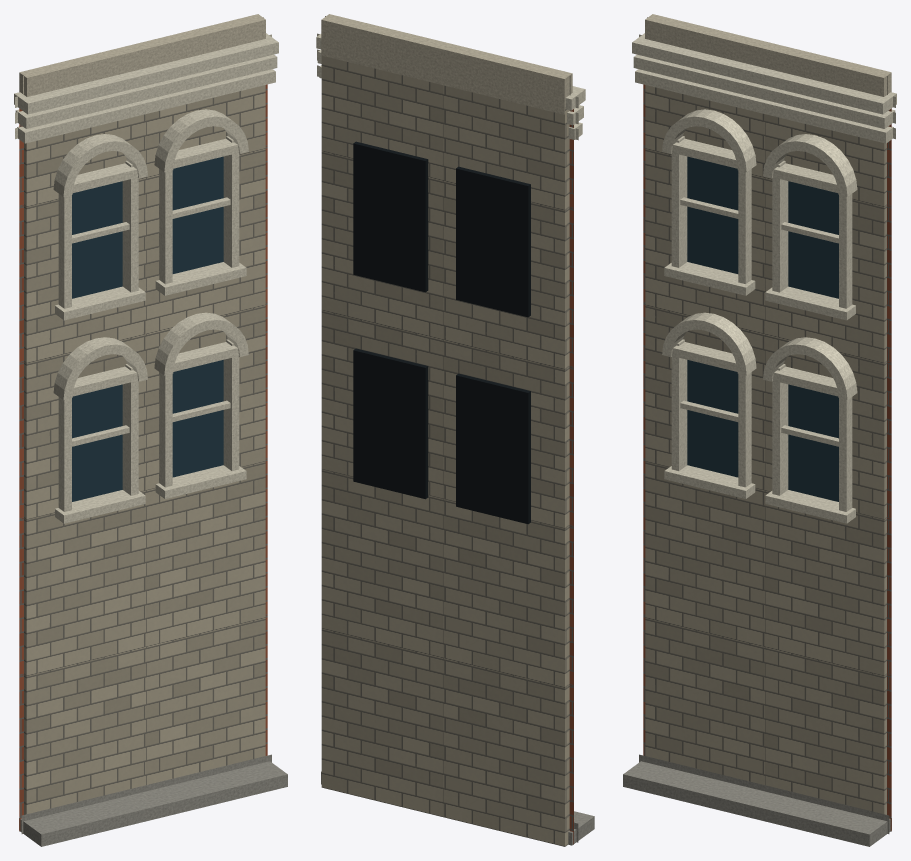
Rendered from WRHS4_lod2.glb.
3 views of the same model, side by side, from view 1: azimuth 30°, elevation 25°; view 2: azimuth 150°, elevation 25°; view 3: azimuth 330°, elevation 25° (orthographic).
Parts seen in each view (by area): view 1: WRHS4_FRONT_LOD2; view 2: WRHS4_FRONT_LOD2; view 3: WRHS4_FRONT_LOD2.
Boxes of the visible parts, box(x1,y1,x2,y2) form: WRHS4_FRONT_LOD2: box(14, 14, 287, 846); WRHS4_FRONT_LOD2: box(316, 14, 594, 846); WRHS4_FRONT_LOD2: box(623, 14, 896, 846).
Bounding box in the file's own units: 3.44 × 9.66 × 0.65.
Materials: 8 (6 with a texture image).
